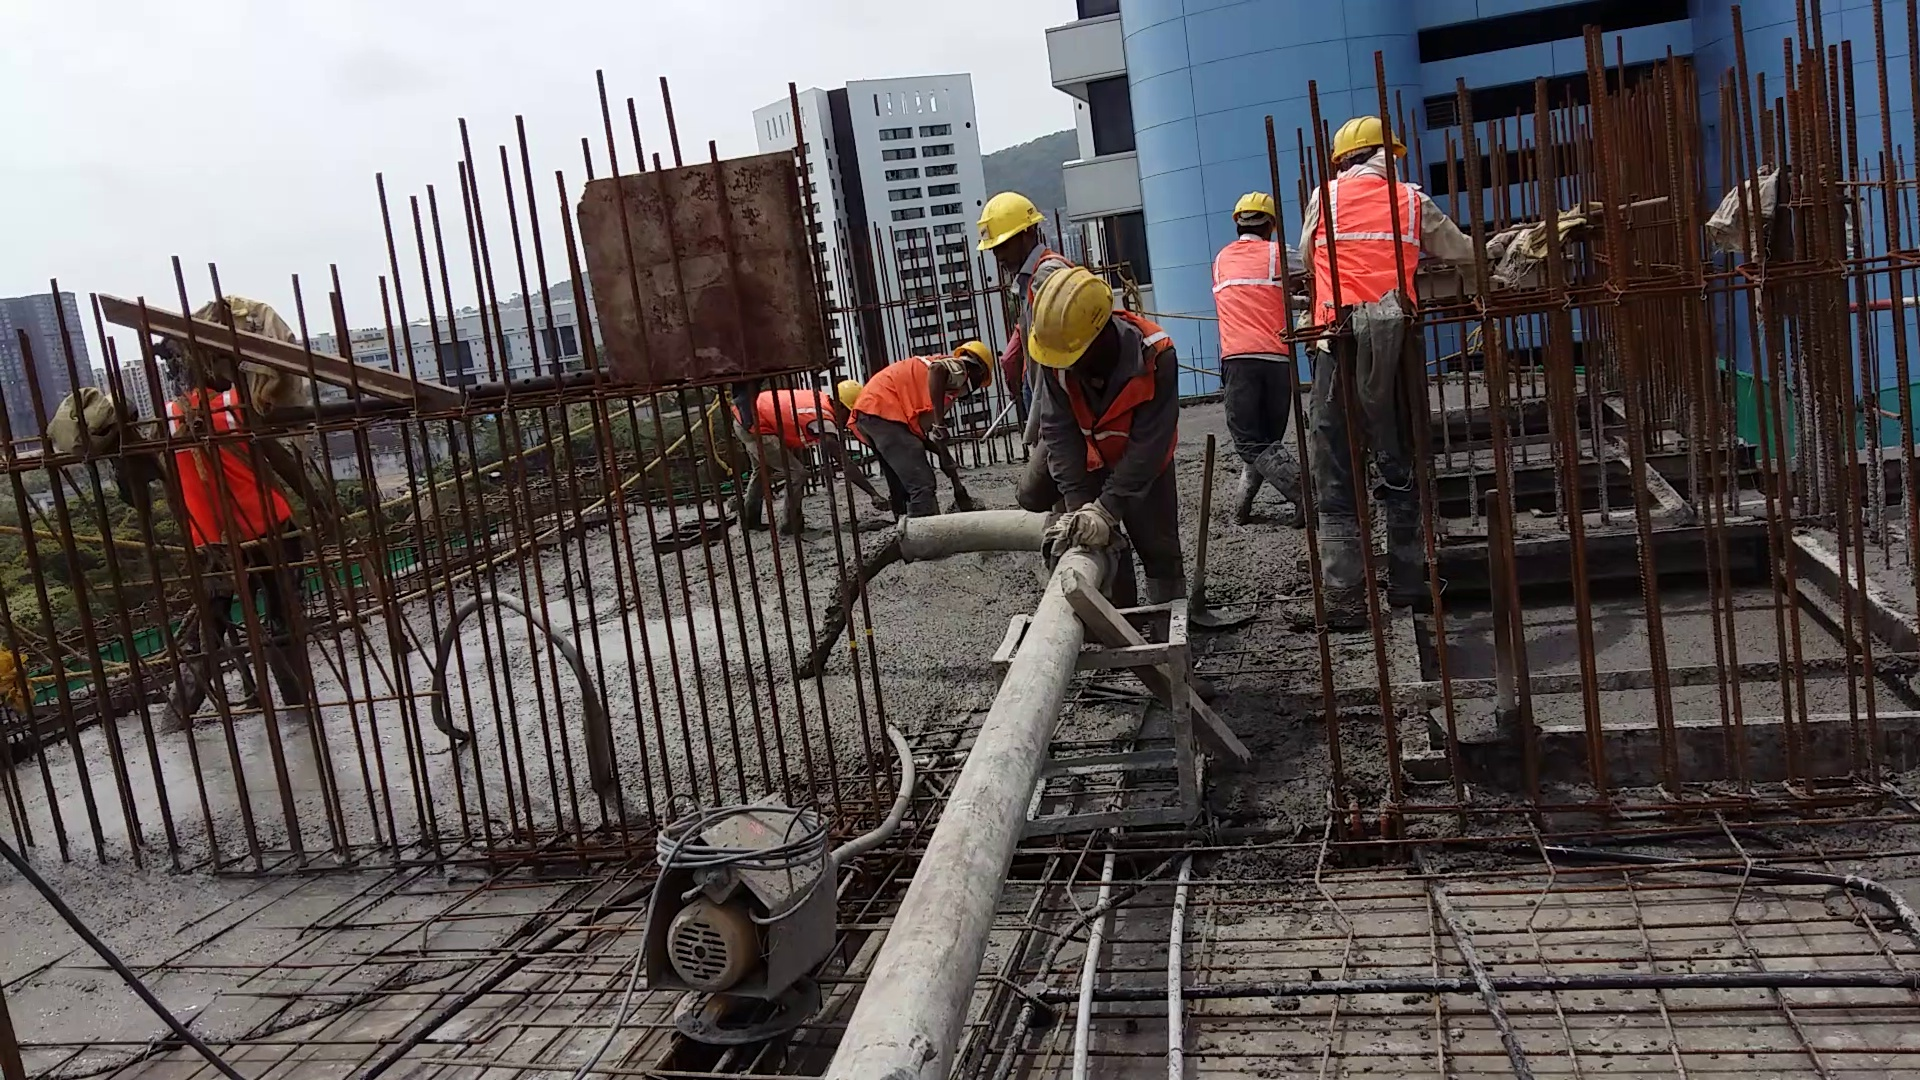SAFE: (1029, 268, 1167, 477), (1327, 109, 1389, 326), (1209, 189, 1286, 363), (856, 342, 993, 429)
